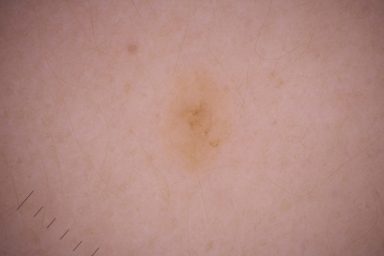nevus: (176, 83, 221, 174)
